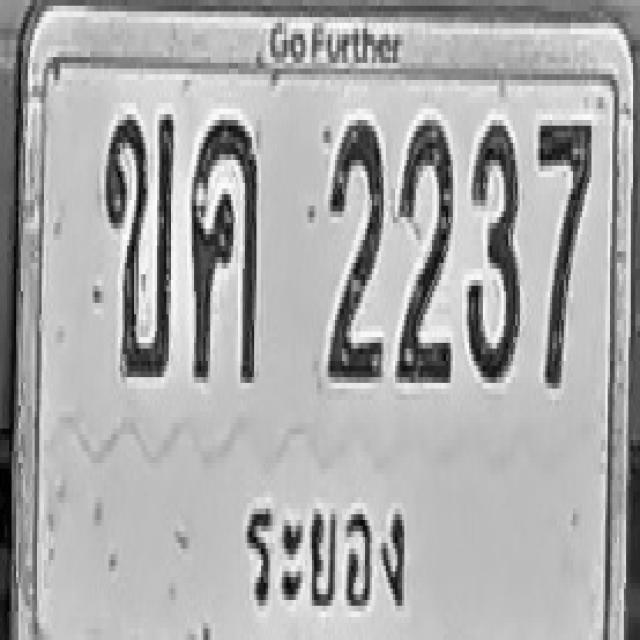11KhorKhai: (104, 109, 173, 377)
13KhorKhwai: (190, 111, 258, 380)
2: (395, 114, 453, 383), (326, 114, 384, 377)
3: (467, 120, 520, 377)
7: (538, 117, 590, 386)
Rayong: (241, 475, 415, 622)
